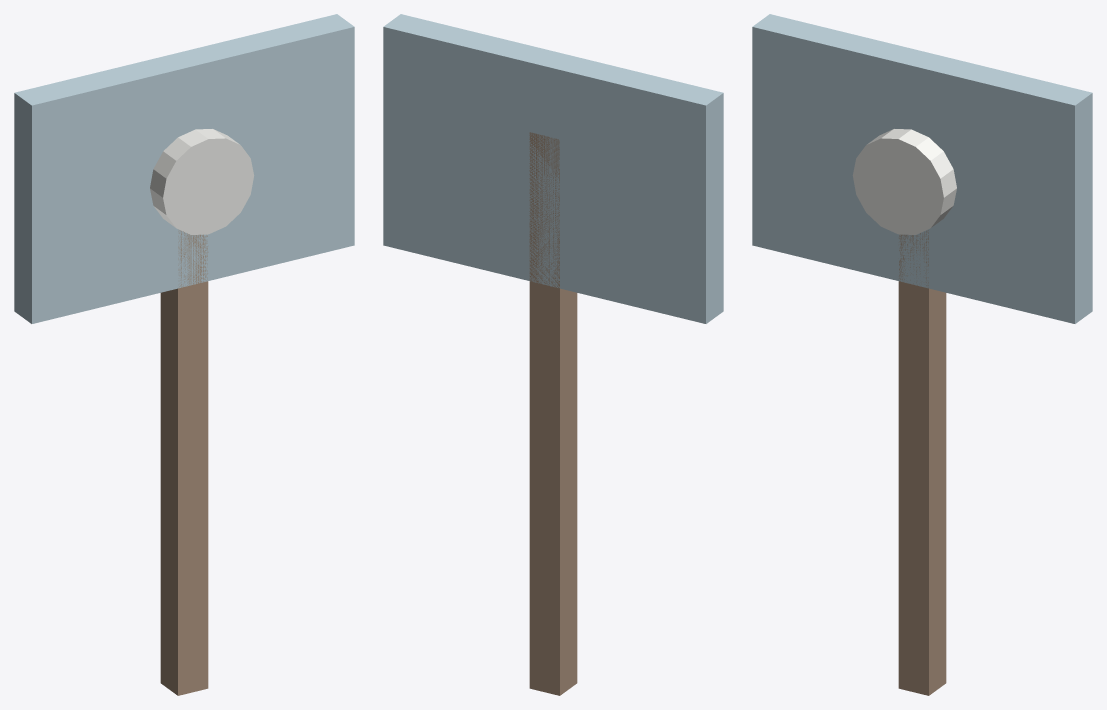
The model's file is fishing_sign.glb.
3 renders of one model, left to right at view 1: azimuth 30°, elevation 25°; view 2: azimuth 150°, elevation 25°; view 3: azimuth 330°, elevation 25°, orthographic.
Parts seen in each view (by area): view 1: part_01, part_00, part_02; view 2: part_01, part_00; view 3: part_01, part_00, part_02.
Boxes of the visible parts, left/top/right/bottom form: part_01: left=14, top=14, right=354, bottom=323; part_00: left=160, top=230, right=208, bottom=695; part_02: left=150, top=129, right=254, bottom=234; part_01: left=383, top=14, right=723, bottom=323; part_00: left=529, top=132, right=577, bottom=695; part_01: left=752, top=14, right=1092, bottom=323; part_00: left=898, top=230, right=946, bottom=695; part_02: left=852, top=129, right=956, bottom=234.
Size of the model in its own units: 0.85 by 1.58 by 0.15.
